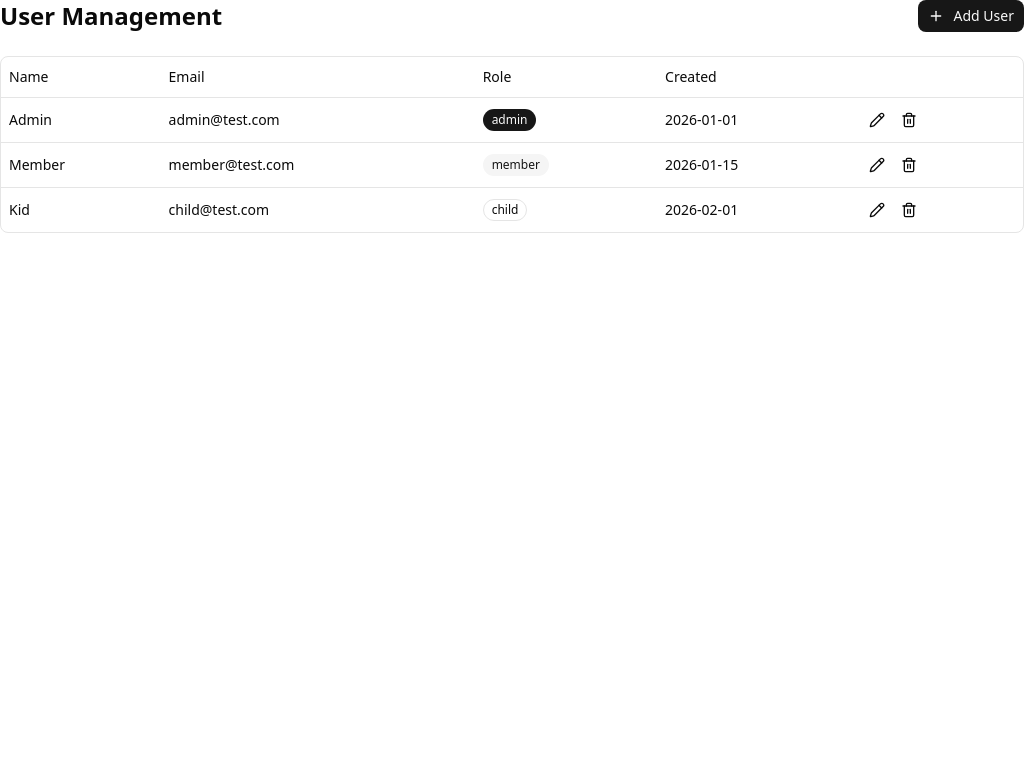
Scenario: UsersPage › opens create dialog on add button click
This screenshot has width=1024, height=768.
expect the text "Admin" is shown: met, box [1,97,160,142]
Click the button "Add User": (971, 16) [918,0,1023,32]
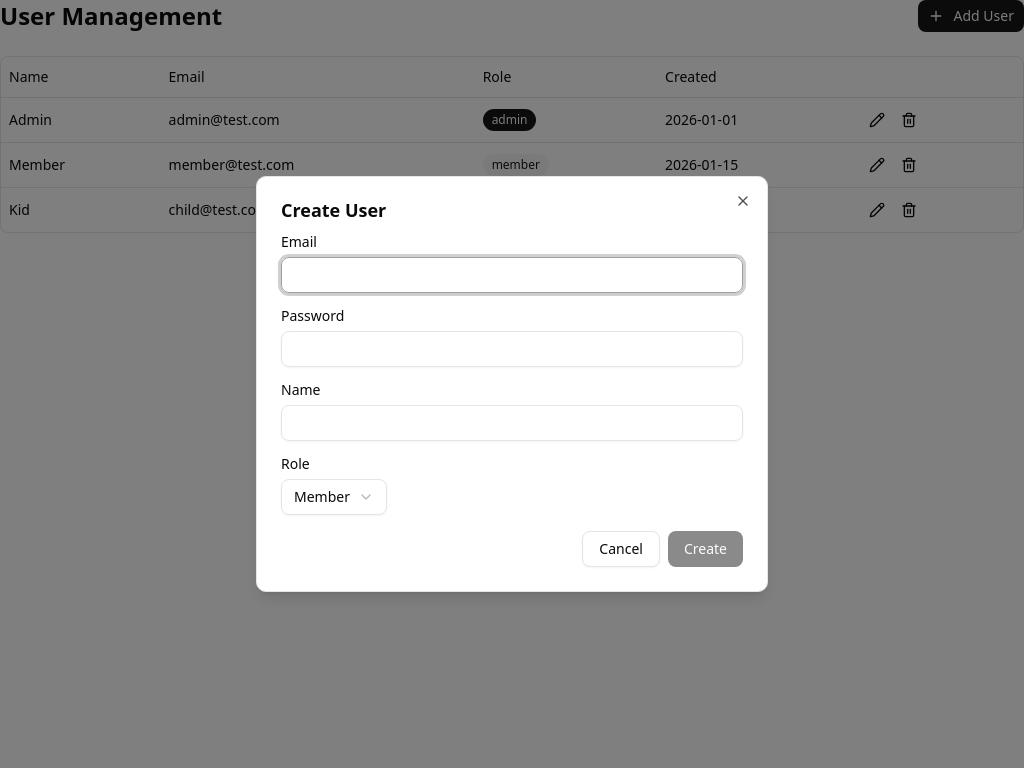
expect the heading "Create User" is shown: met, box [281,198,386,222]
